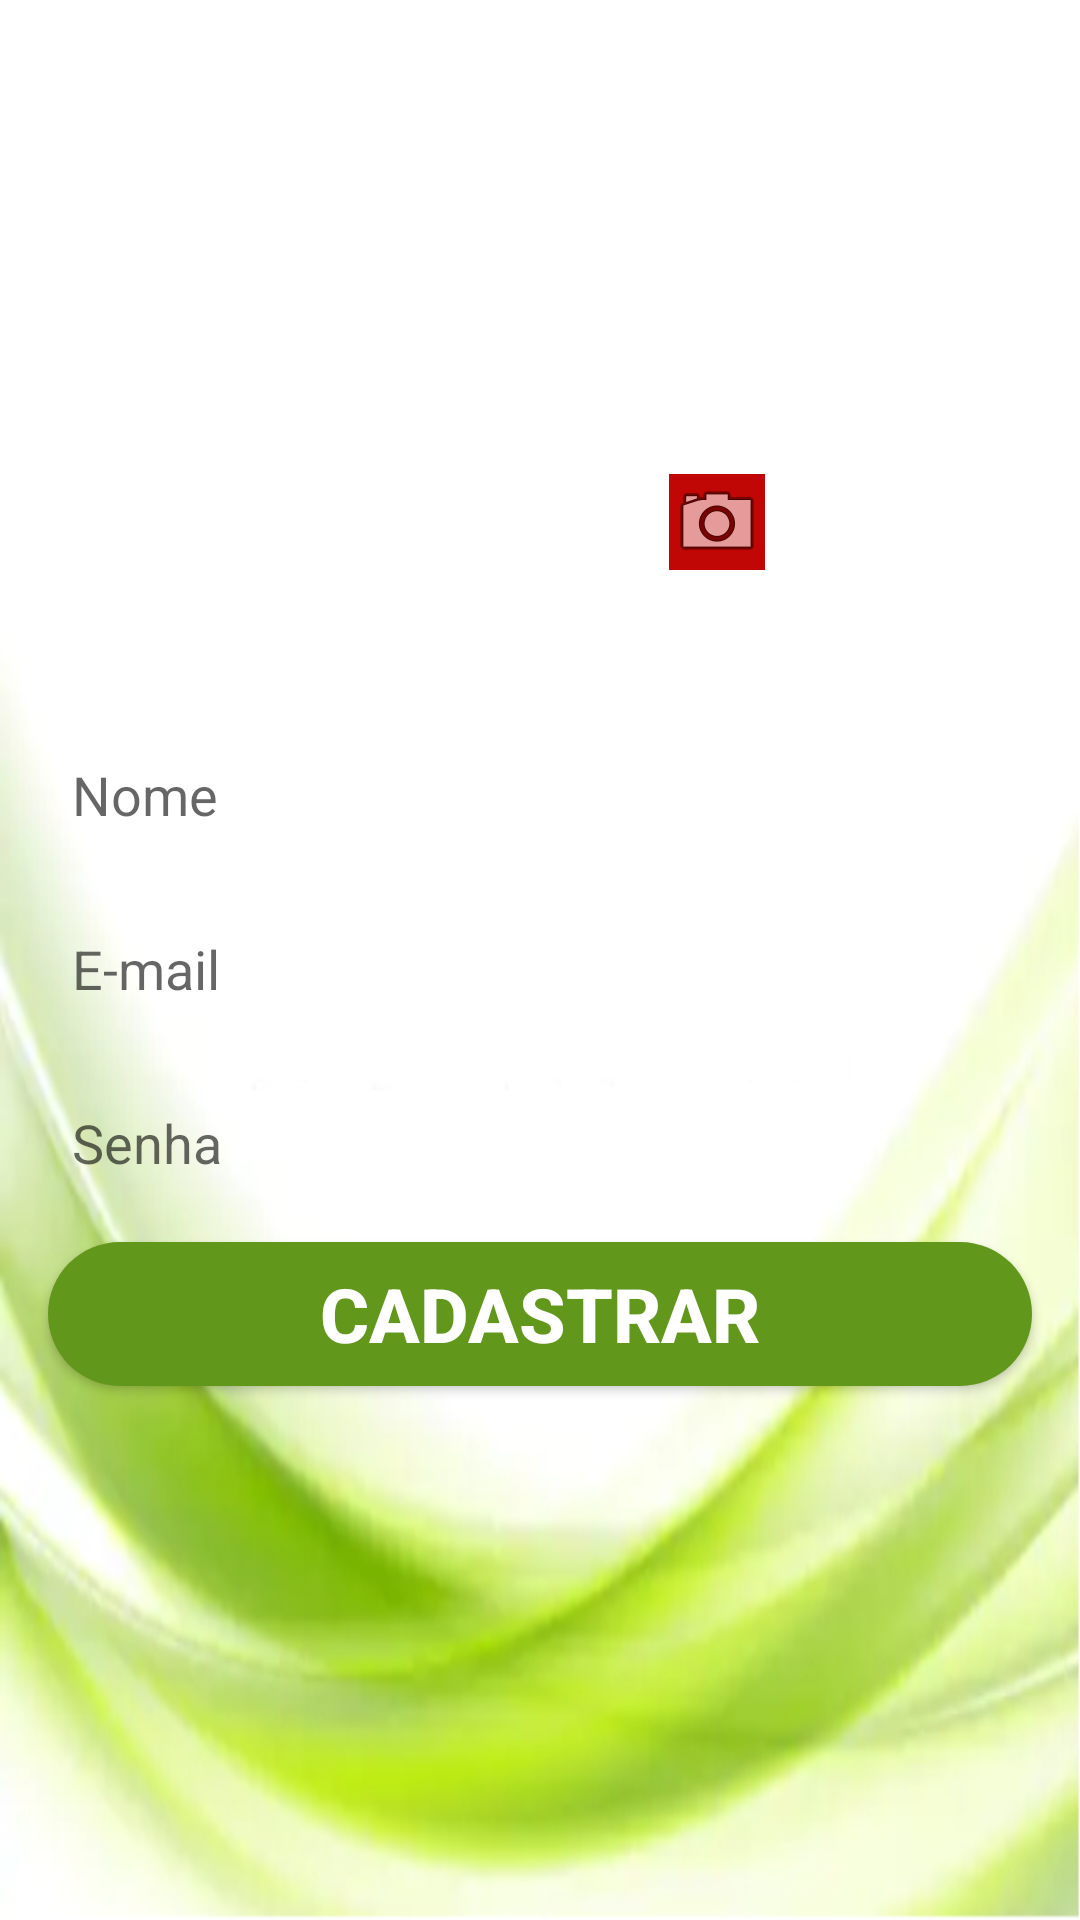

Icons on this 1080*1920 Android screen, each with its box as rect(x1, y1, x2, y2):
camera: rect(669, 474, 765, 570)
